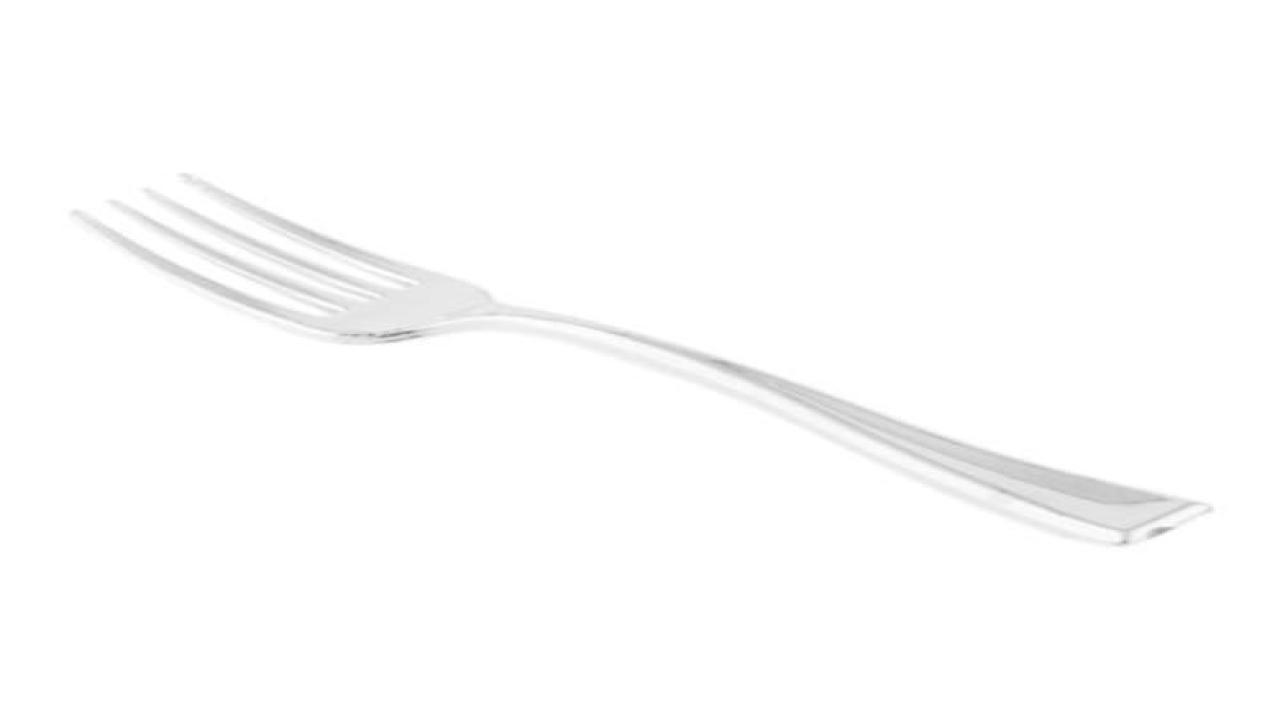fork: (66, 170, 1214, 546)
